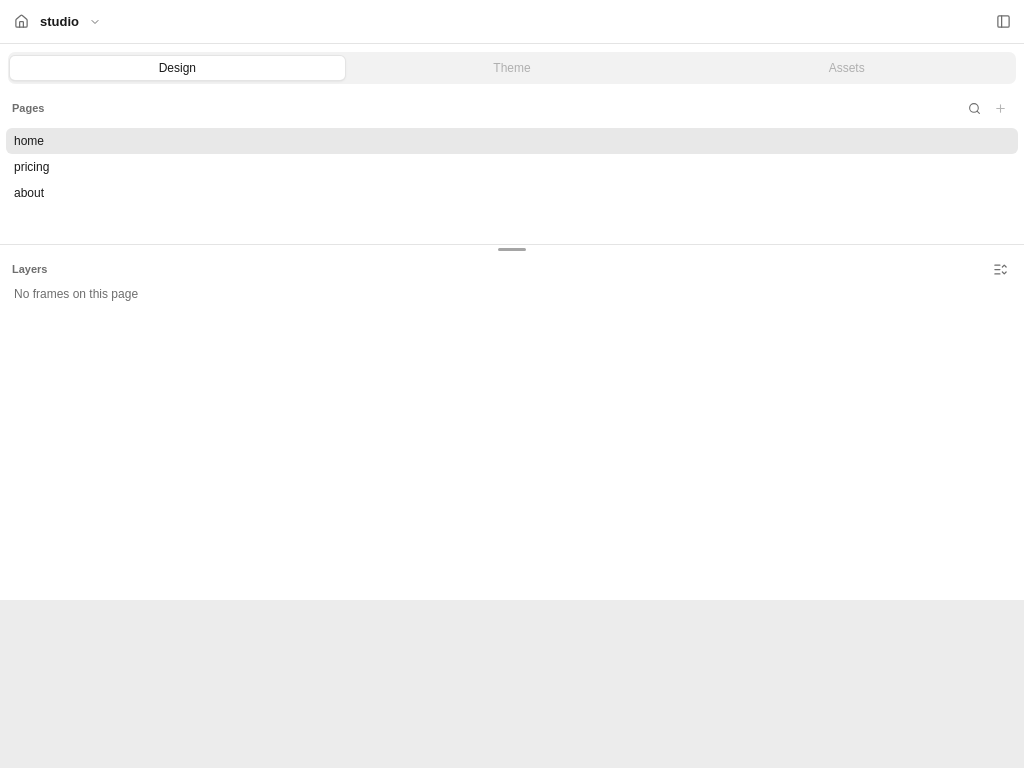
Test: LeftPanel › pages › cancels a rename on Esc and writes nothing
The width and height of the screenshot is (1024, 768).
Double-click the link "pricing" at [32, 167], box 14,160 -> 49,174
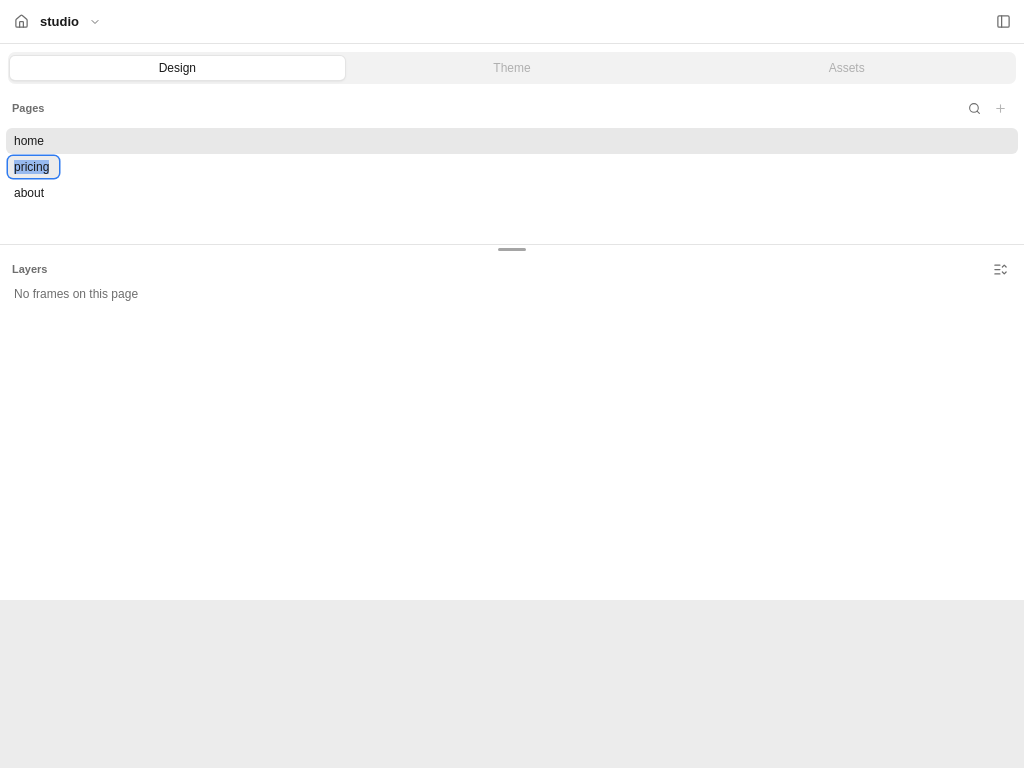
Press Escape
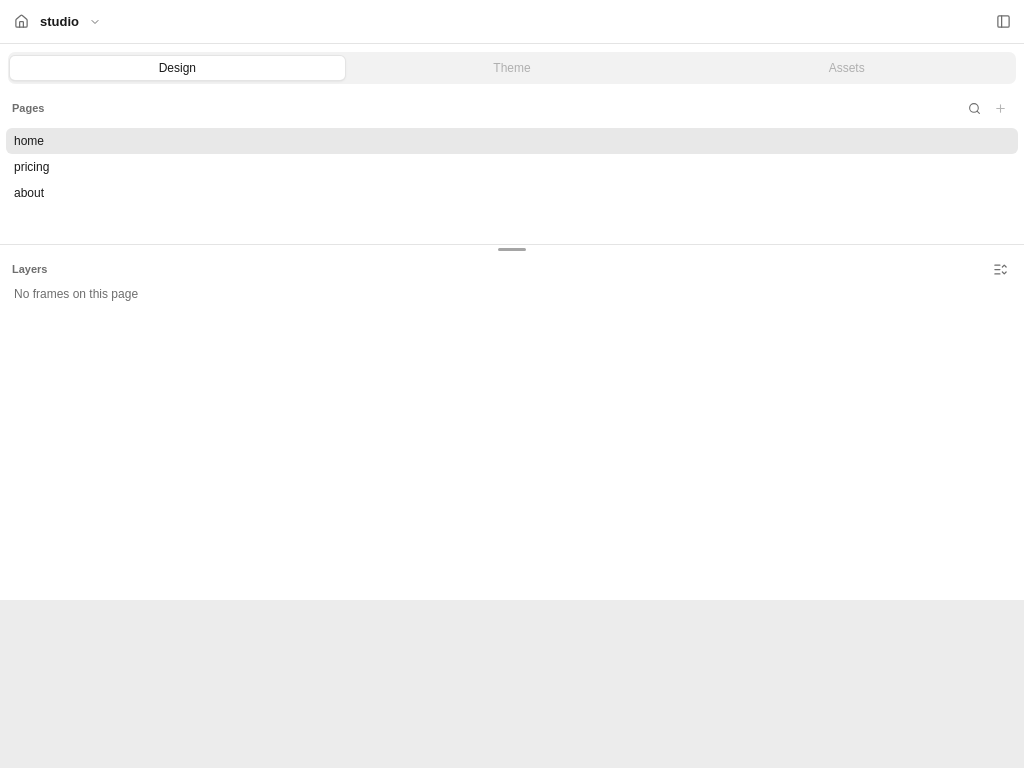
Now the field is gone
Now the link "pricing" is shown, box 14,160 -> 49,174
